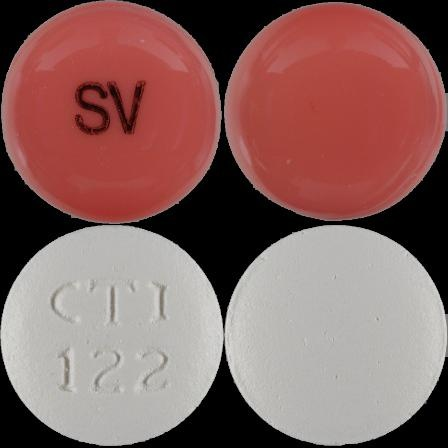63629-2770: (0, 0, 224, 224)
